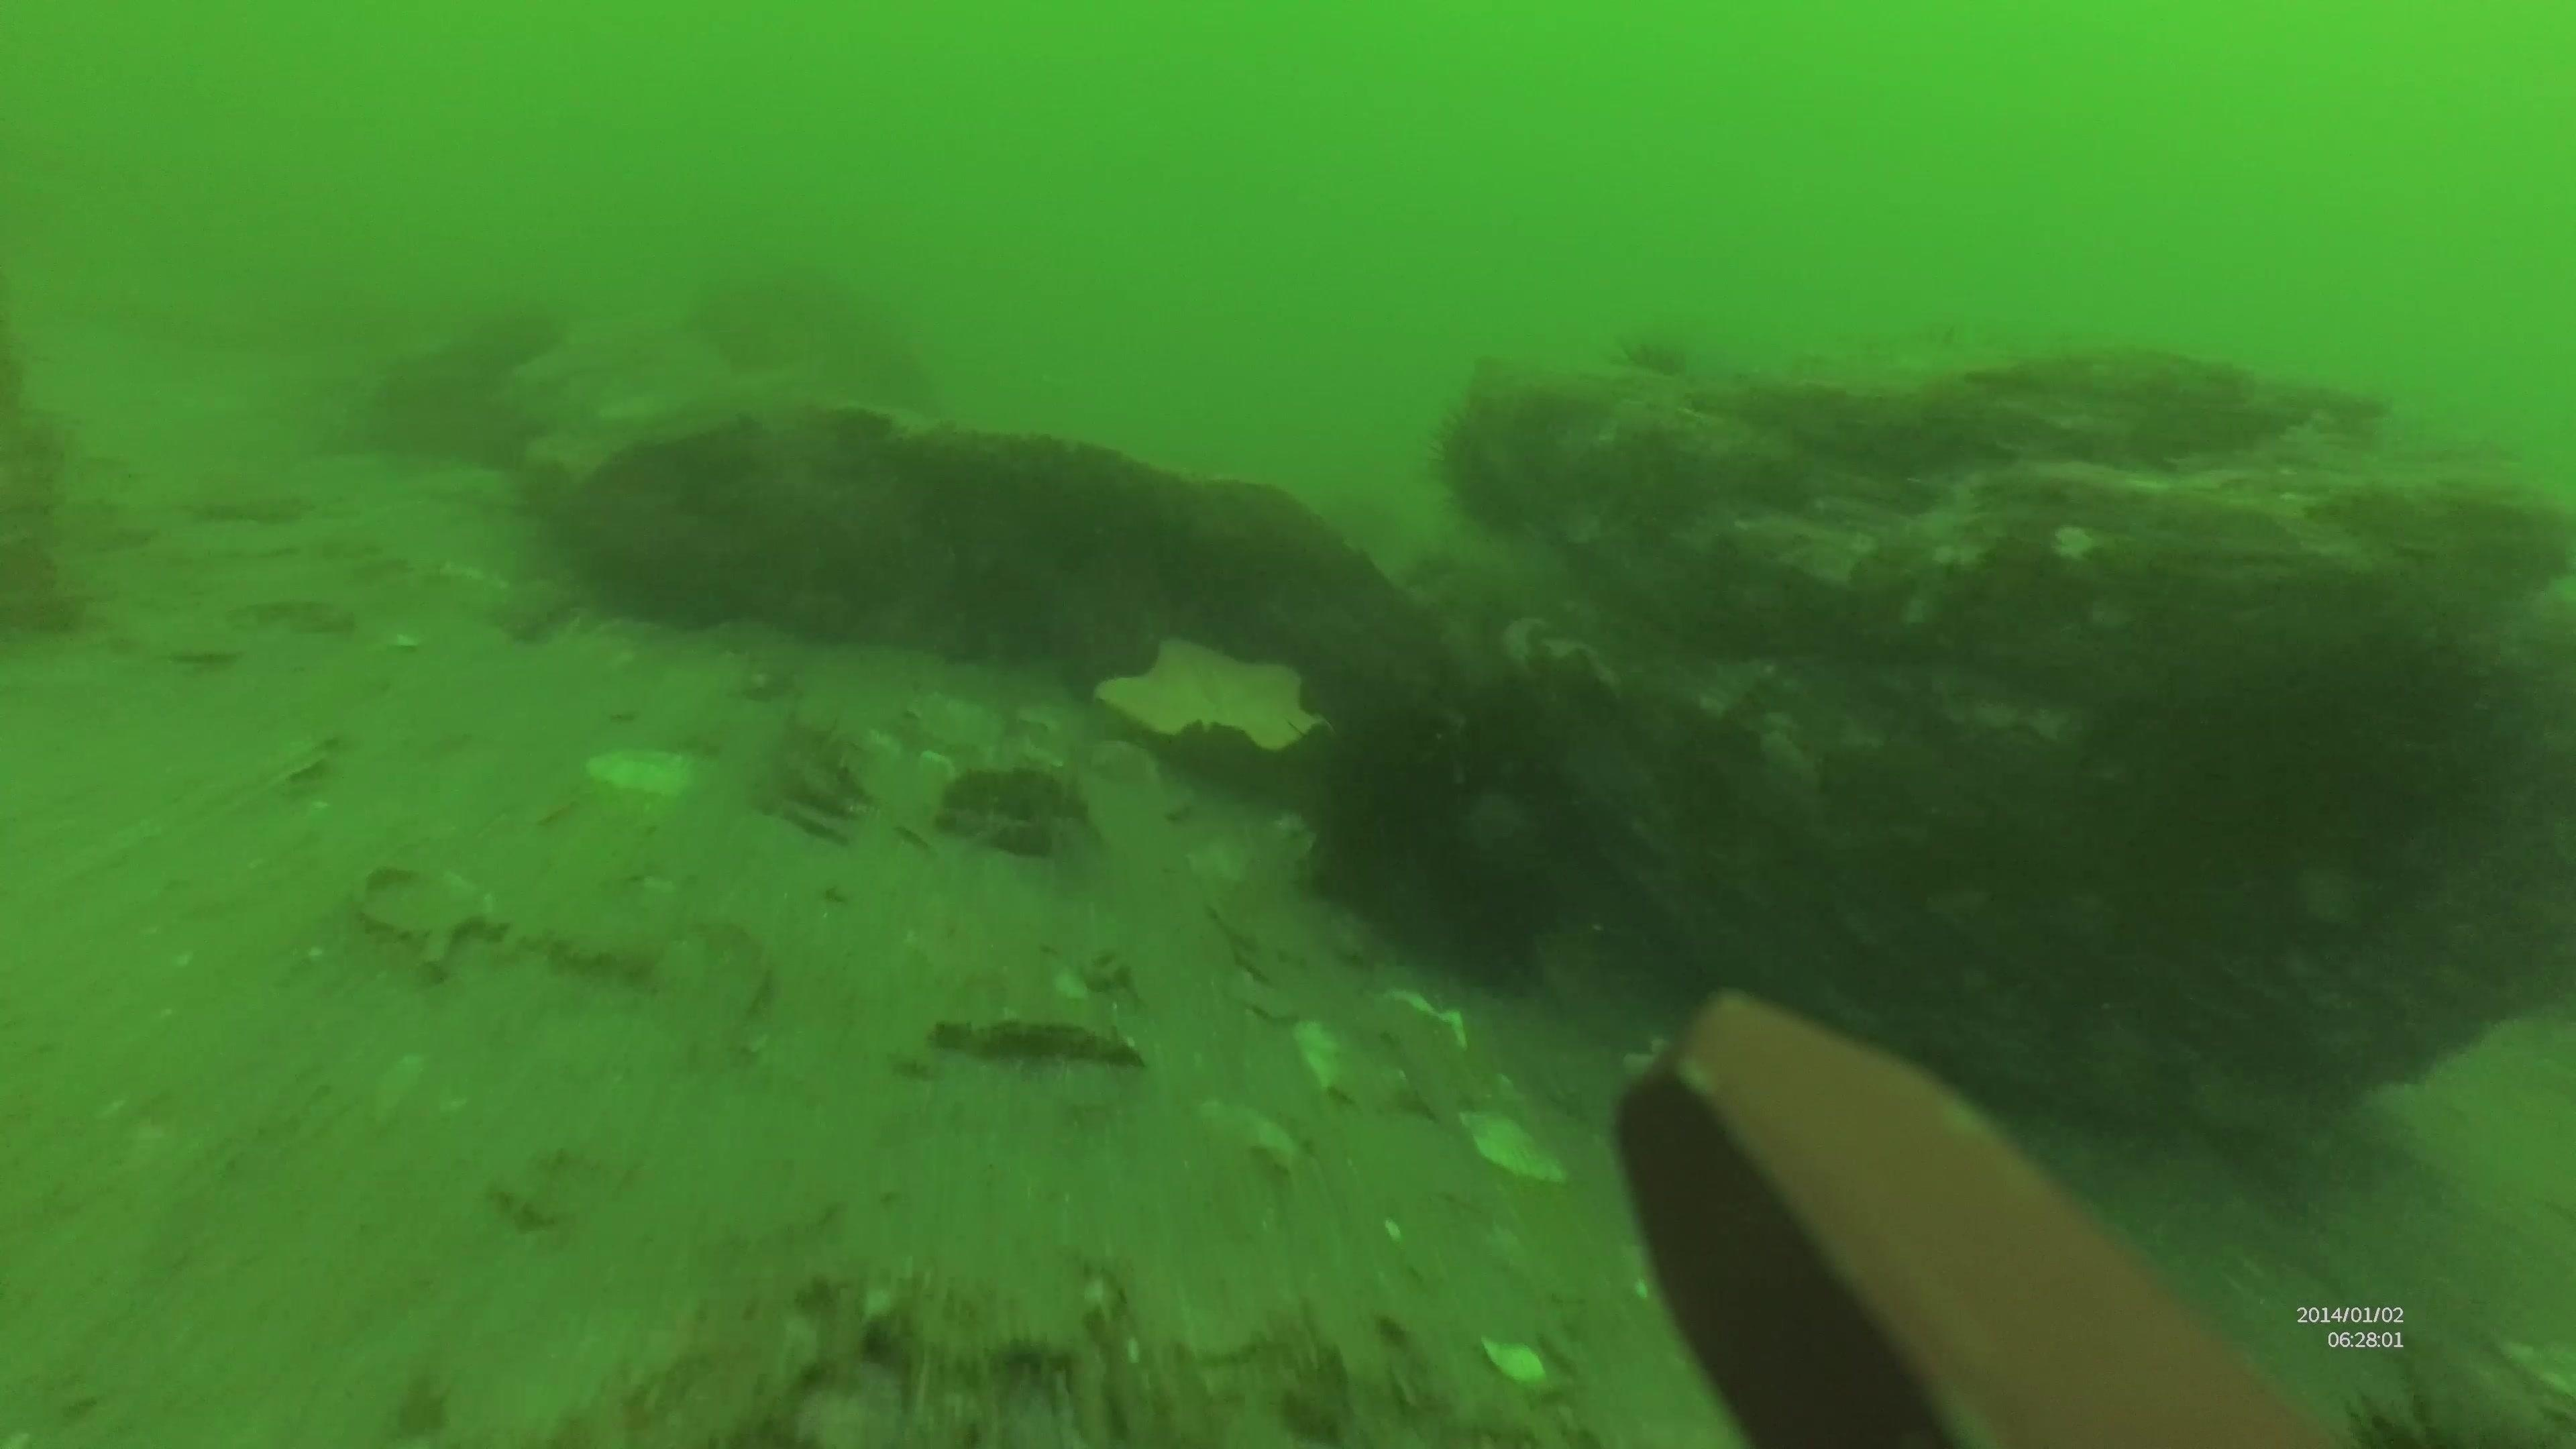scallop: (577, 738, 706, 805)
starfish: (1092, 630, 1330, 766)
